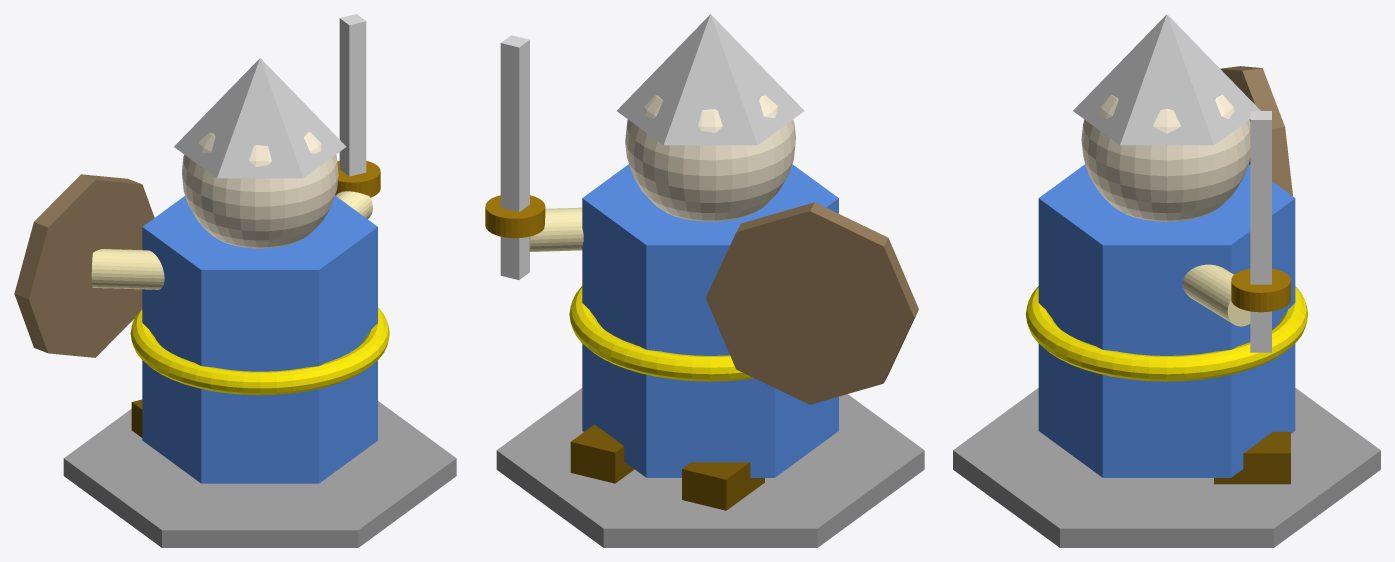
Rendered from infantry.glb.
3 views of the same model, side by side, from view 1: azimuth 30°, elevation 25°; view 2: azimuth 150°, elevation 25°; view 3: azimuth 270°, elevation 25° (orthographic). The views are drawn at different scales.
Visible parts, largest first — view 1: WarriorWithArms; view 2: WarriorWithArms; view 3: WarriorWithArms.
Part boxes in pixels (bbox=[...]): WarriorWithArms: bbox=[14, 14, 456, 547]; WarriorWithArms: bbox=[485, 14, 924, 547]; WarriorWithArms: bbox=[953, 14, 1380, 547].
Size of the model in its own units: 1.11 by 1.17 by 1.
